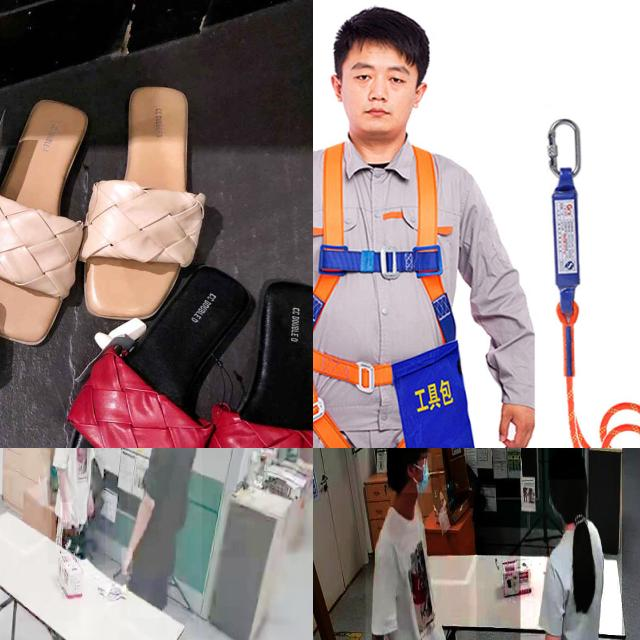Harness: (313, 145, 462, 448)
Sandals: (0, 63, 247, 371), (29, 250, 313, 448)
face_mask: (402, 453, 432, 493)
hand_noglove: (60, 502, 72, 530), (121, 548, 133, 575), (86, 492, 94, 518)
head_nohelmet: (548, 448, 585, 480)
person: (365, 448, 476, 640), (520, 448, 622, 640), (127, 448, 202, 618), (47, 448, 106, 565)
